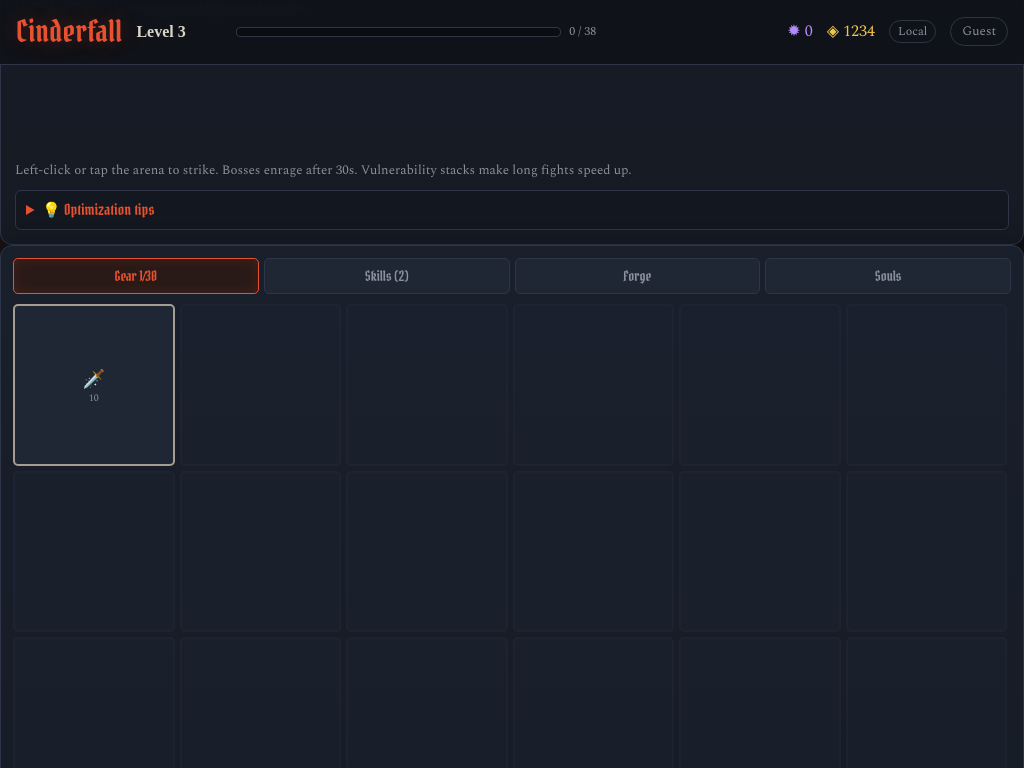
Test: game shell › shows the selected item card
(page scrolled)
Click the button titled "War Axe" at (94, 385), box [13,304,174,466]
(page scrolled)
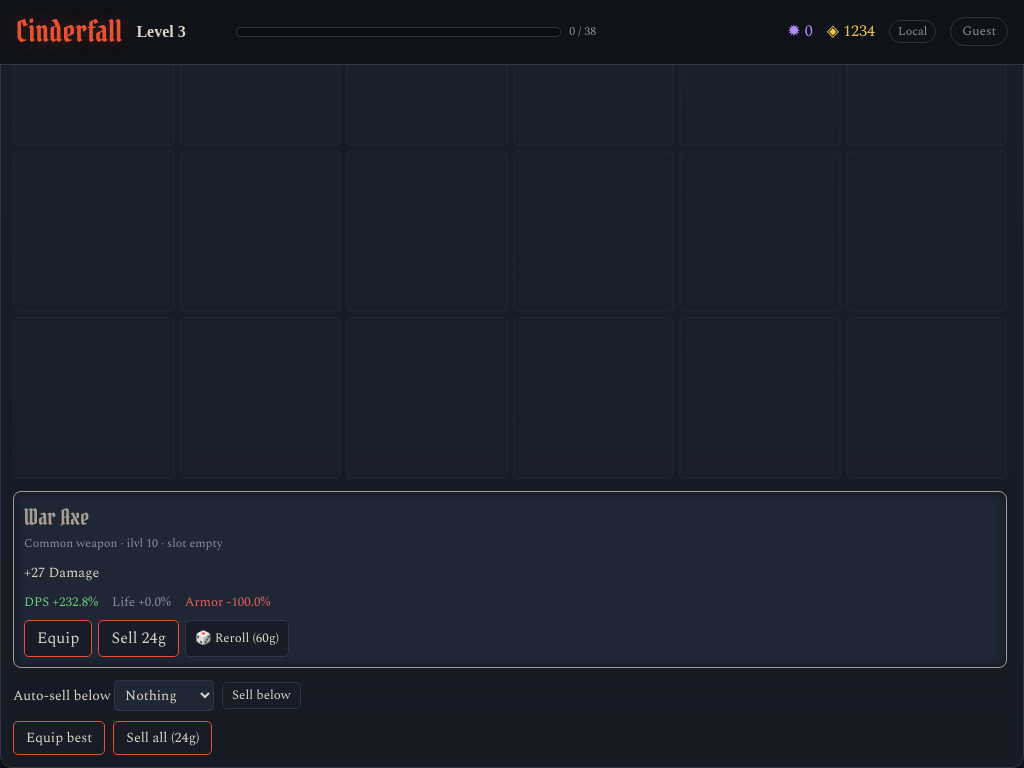
Result: the button "Equip" is shown at [24,620,92,657]
Result: the button "🎲 Reroll (60g)" is shown at [185,620,289,657]
